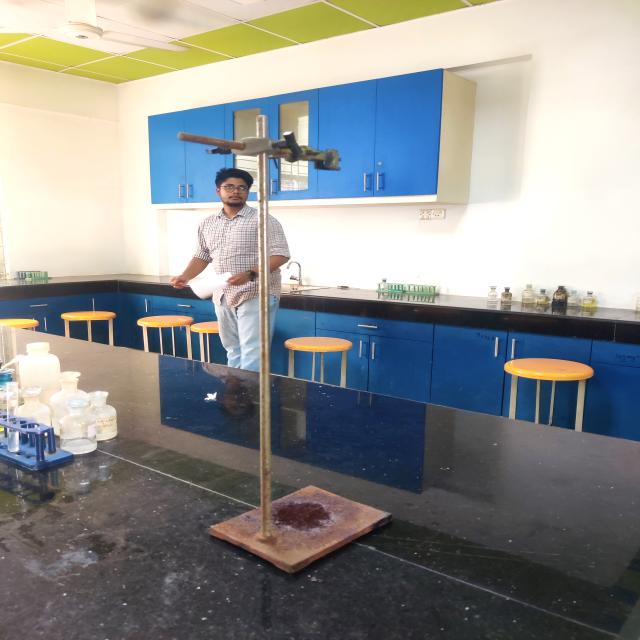Burette_Stands: (141, 103, 414, 602)
